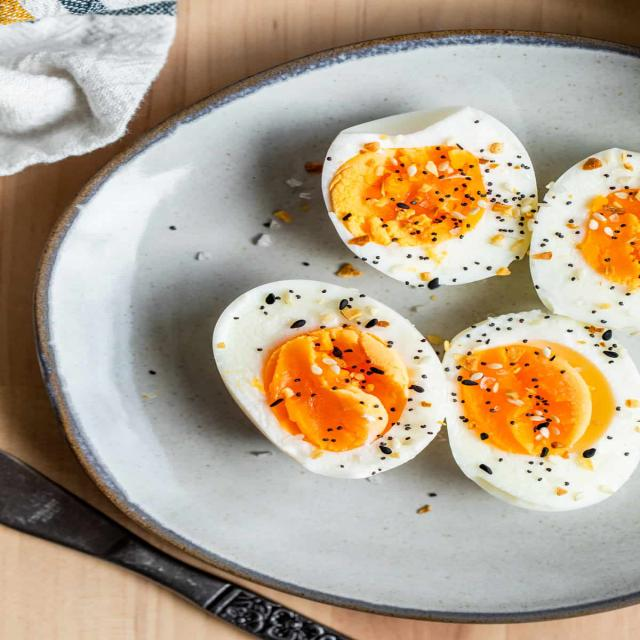eggs: (209, 118, 640, 475)
